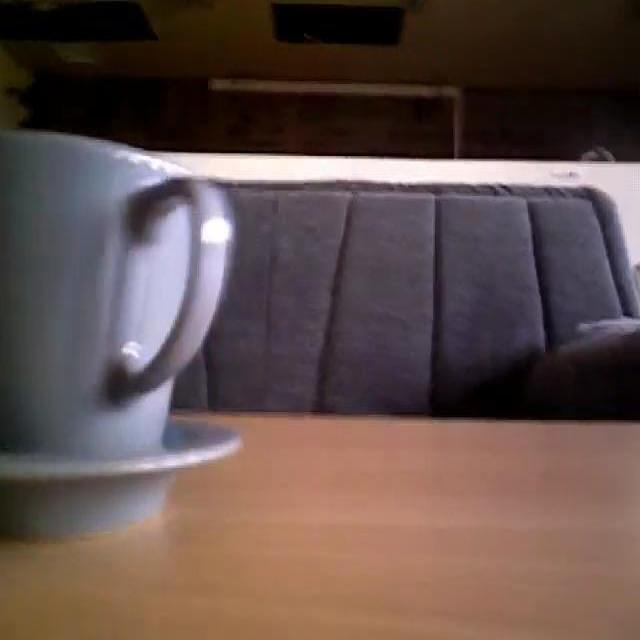cup: (0, 122, 251, 542)
